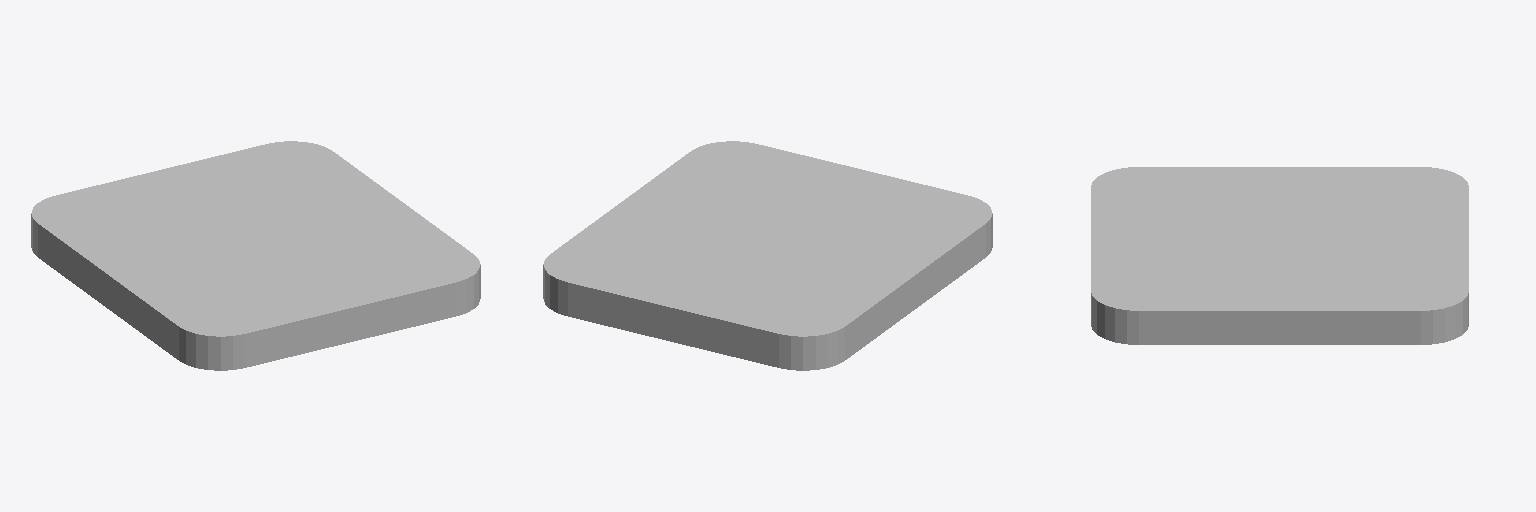
The model's file is original-42.obj.
3 views of the same model, side by side, from view 1: azimuth 30°, elevation 25°; view 2: azimuth 150°, elevation 25°; view 3: azimuth 270°, elevation 25° (orthographic).
Visible parts, largest first — view 1: mesh41/mesh41-geometry#mesh41-geometry; view 2: mesh41/mesh41-geometry#mesh41-geometry; view 3: mesh41/mesh41-geometry#mesh41-geometry.
Boxes of the visible parts, <box> form: mesh41/mesh41-geometry#mesh41-geometry: <box>31,141,480,370</box>; mesh41/mesh41-geometry#mesh41-geometry: <box>543,141,992,370</box>; mesh41/mesh41-geometry#mesh41-geometry: <box>1091,167,1468,344</box>.
Bounding box in the file's own units: 0.0581 × 0.0064 × 0.0644.